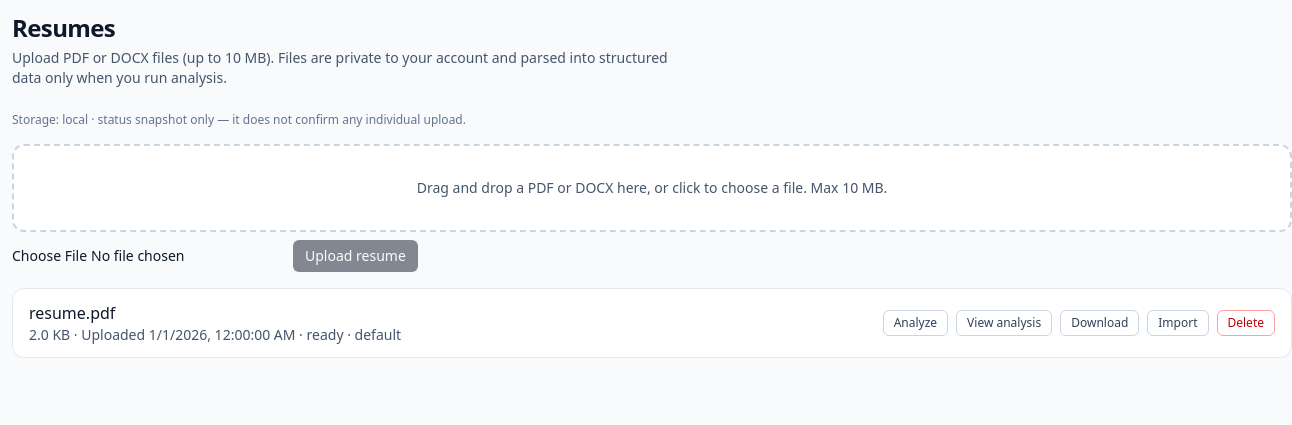
Test: ResumesPage download, import, delete › downloads the stored file through the backend route
Expected: the text "resume.pdf" is shown, [29,302,115,324]
Click the button "Download" at (1100, 323), box [1060,310,1139,336]
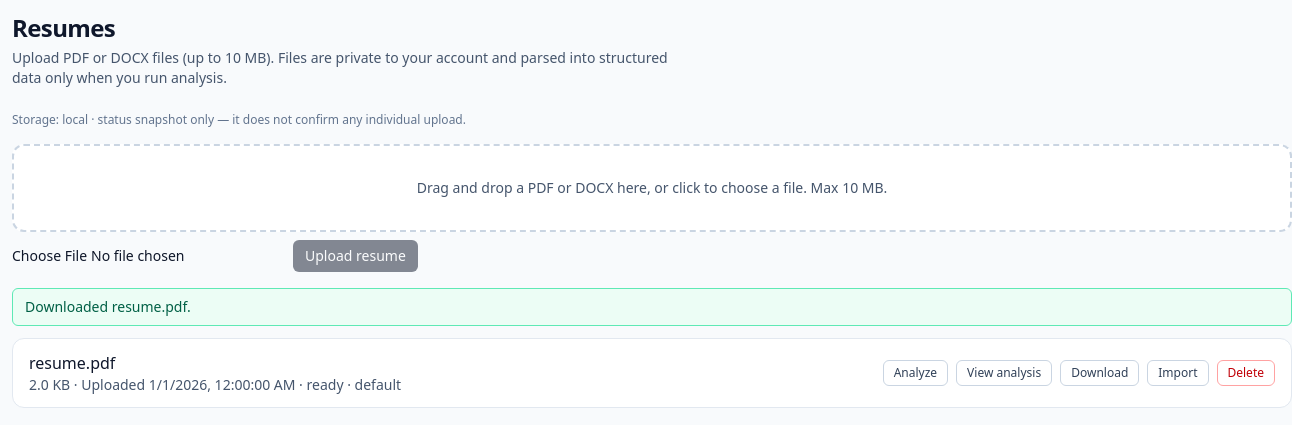
Expected: the text "Downloaded resume.pdf." is shown, [12,288,1291,326]
